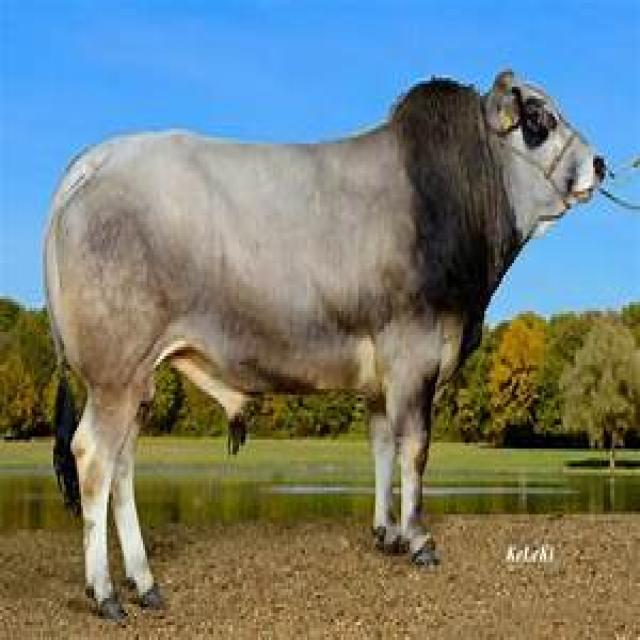animal: (41, 66, 608, 622)
